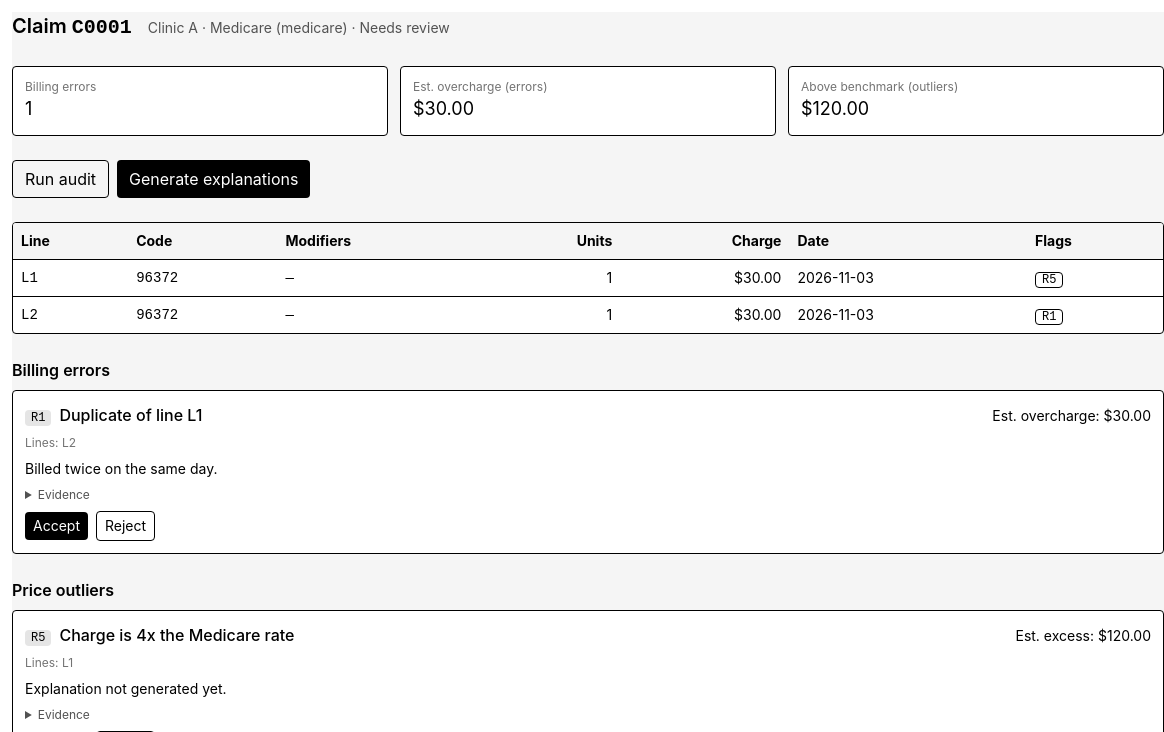
Test case: done with remaining shows the run-again hint
Click the button "Generate explanations" at (214, 179), box [117,160,310,198]
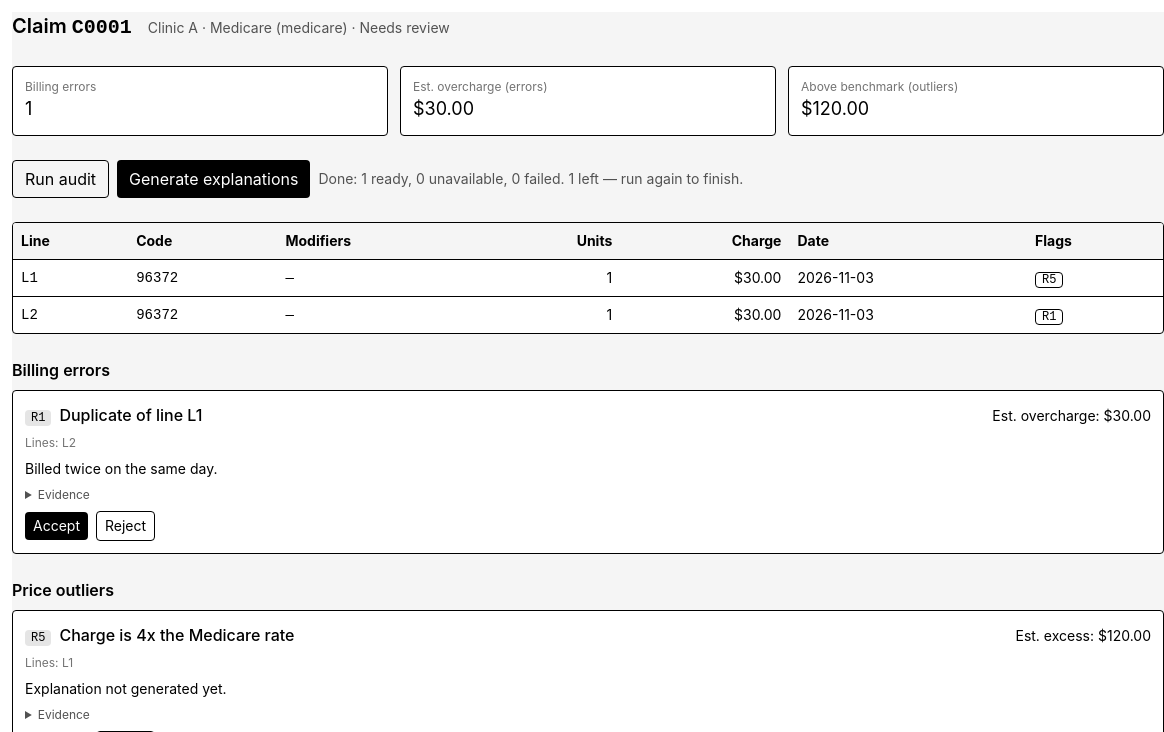
Now the text "Done: 1 ready, 0 unavailable, 0 failed. 1 left — run again to finish." is shown, box [318,169,743,189]
